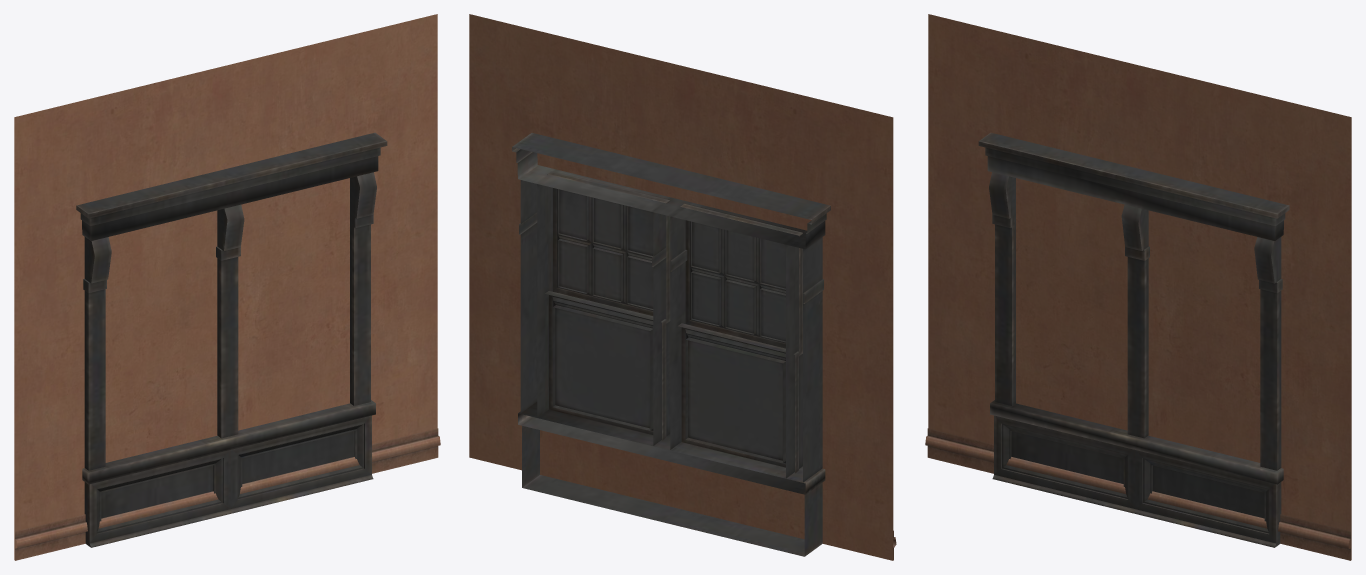
Rendered from polyhaven-apartment-mobile.glb.
3 views of the same model, side by side, from view 1: azimuth 30°, elevation 25°; view 2: azimuth 150°, elevation 25°; view 3: azimuth 330°, elevation 25° (orthographic).
Parts seen in each view (by area): view 1: wall_standard_standard_01, wall_window_centered_large_01, window_centered_large_01, cornice_standard_standard_01; view 2: window_centered_large_01, wall_window_centered_large_01, wall_standard_standard_01; view 3: wall_standard_standard_01, wall_window_centered_large_01, window_centered_large_01, cornice_standard_standard_01.
Part boxes in pixels (left/top/right/bottom): wall_standard_standard_01: left=14, top=15, right=437, bottom=558; wall_window_centered_large_01: left=14, top=14, right=437, bottom=560; window_centered_large_01: left=76, top=132, right=387, bottom=547; cornice_standard_standard_01: left=15, top=428, right=440, bottom=560; window_centered_large_01: left=512, top=133, right=830, bottom=556; wall_window_centered_large_01: left=469, top=14, right=893, bottom=560; wall_standard_standard_01: left=469, top=14, right=893, bottom=560; wall_standard_standard_01: left=928, top=14, right=1351, bottom=560; wall_window_centered_large_01: left=928, top=14, right=1351, bottom=559; window_centered_large_01: left=978, top=132, right=1289, bottom=547; cornice_standard_standard_01: left=925, top=428, right=1350, bottom=560.
Bounding box in the file's own units: 3 × 3 × 0.3884.
Materials: 4 (4 with a texture image).
